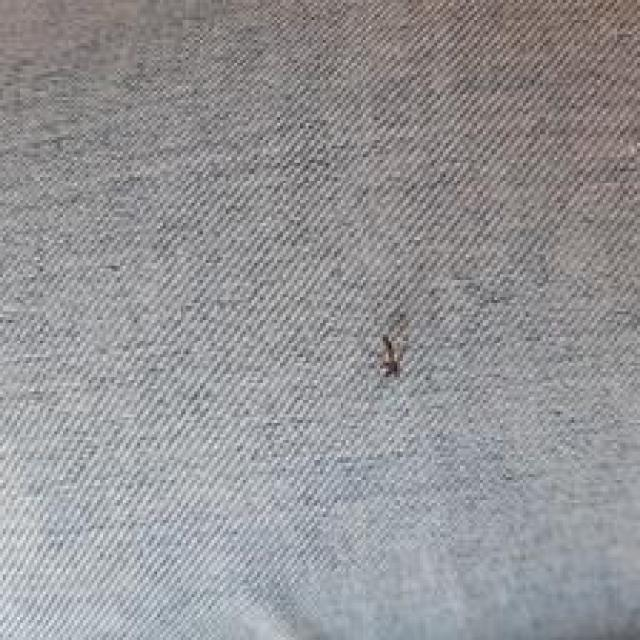Aedes albopictus: (377, 333, 403, 378)
